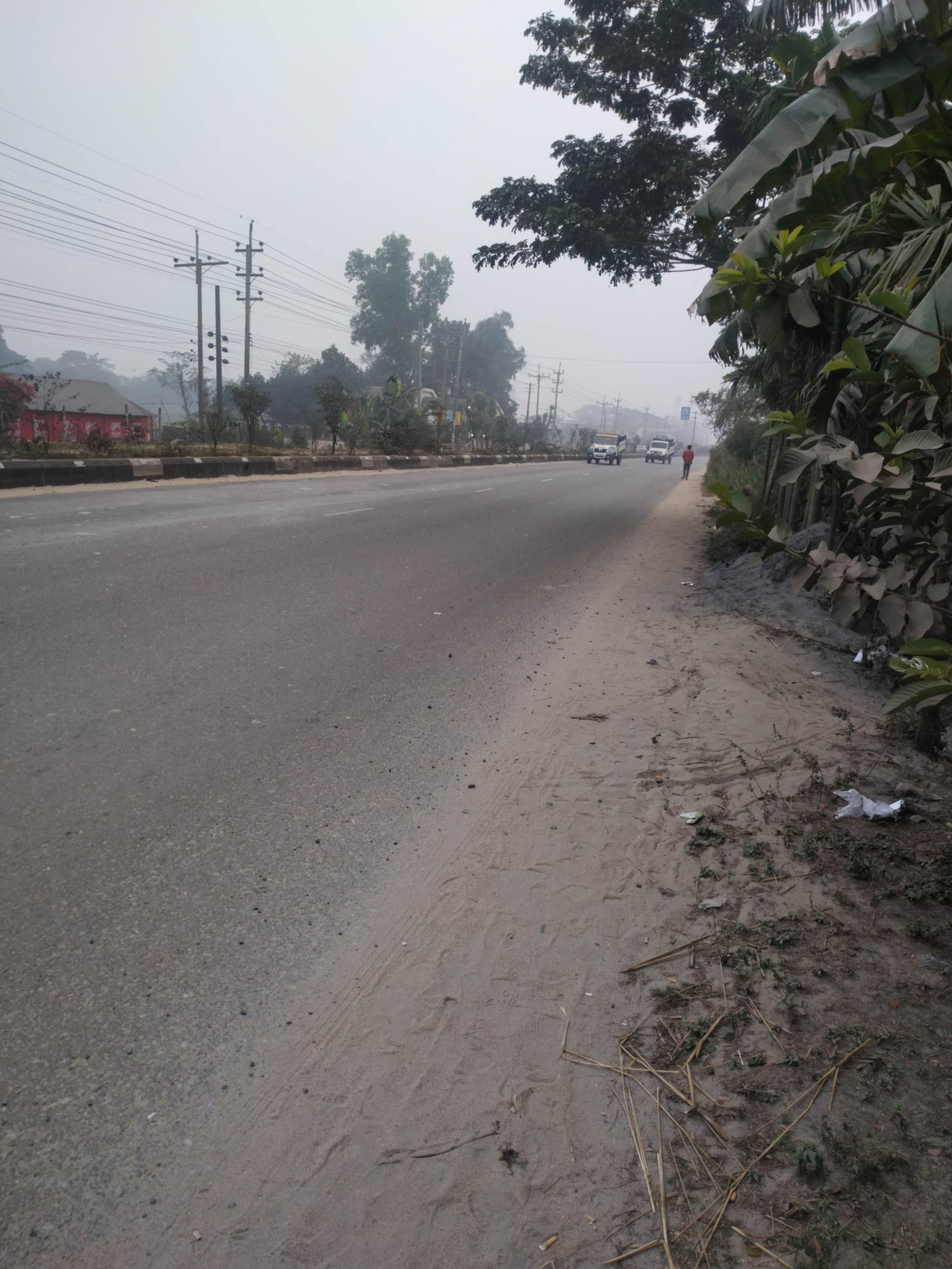Truck: (576, 420, 636, 470), (640, 428, 681, 464)
